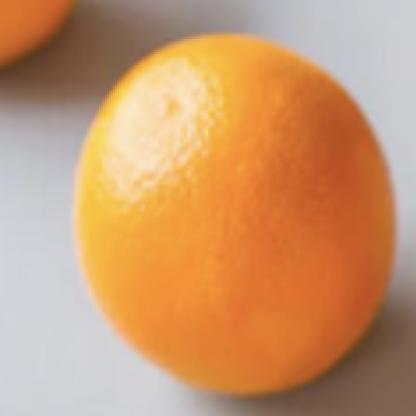fresh: (73, 30, 397, 404)
